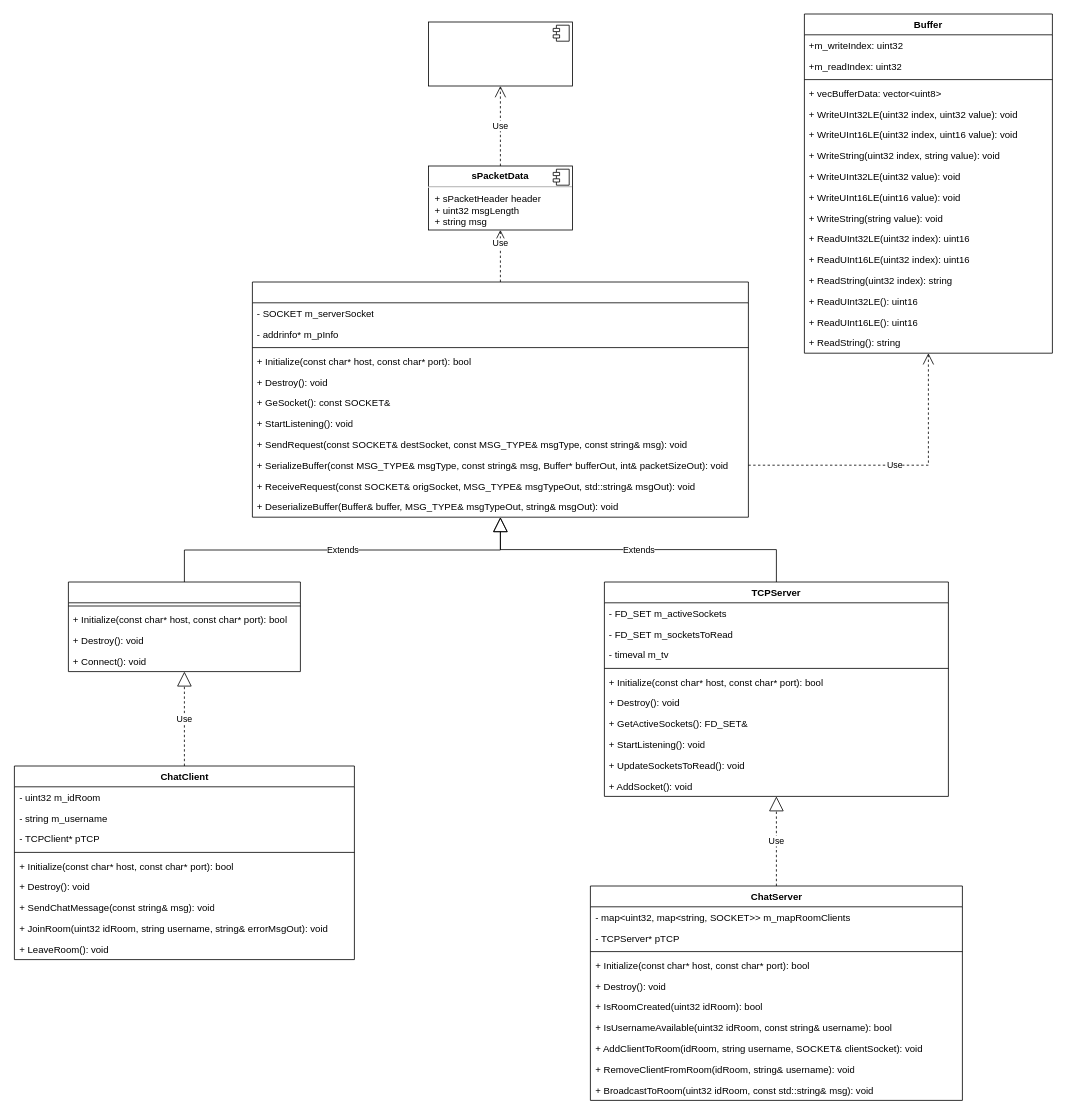
Some shapes in this 1066 by 1117 pixel diagram are drawn without their labels. The shapes that lost their labels are listed below. From the top down, each one's box as (x1, y1, x2, y2) in pixels, then its label:
(428, 21, 572, 86): sPacketHeader + uint32 packetSize + uint32 msgType
(252, 281, 748, 517): TCPBase
(68, 581, 300, 672): TCPClient
